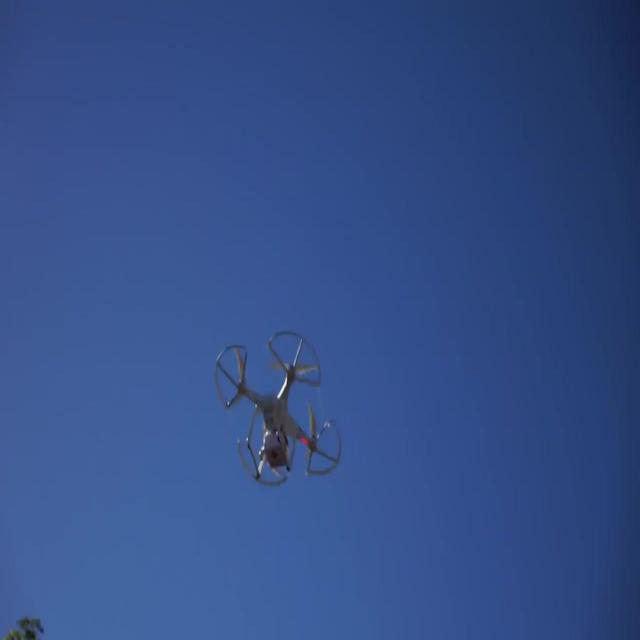UAV: (214, 331, 342, 488)
